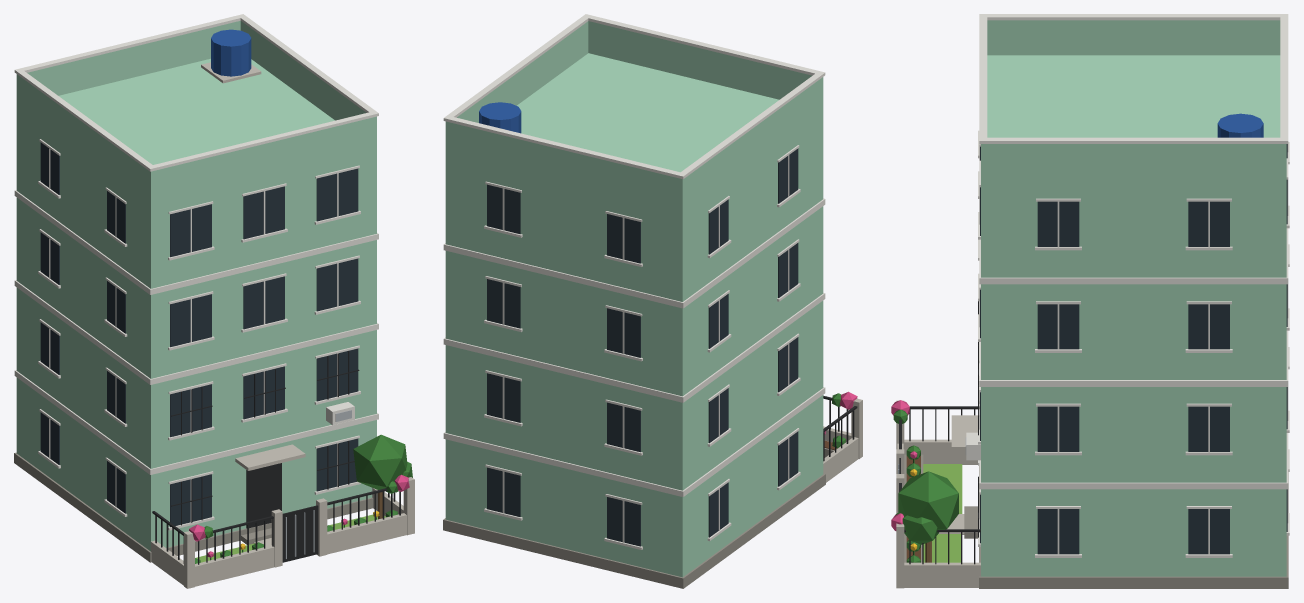
File: BAY_F_Tower_N.glb
The picture shows the model from 3 angles, left to right: view 1: azimuth 30°, elevation 25°; view 2: azimuth 150°, elevation 25°; view 3: azimuth 270°, elevation 25°; orthographic projection. The views are drawn at different scales.
Visible parts, largest first — view 1: BAY_F_Tower_N; view 2: BAY_F_Tower_N; view 3: BAY_F_Tower_N.
Boxes of the visible parts, box(x1,y1,x2,y2) form: BAY_F_Tower_N: box(14, 14, 414, 588); BAY_F_Tower_N: box(443, 14, 862, 588); BAY_F_Tower_N: box(891, 14, 1289, 588).
Bounding box in the file's own units: 7.43 × 11.8 × 9.51.
1 material, 1 textured.
